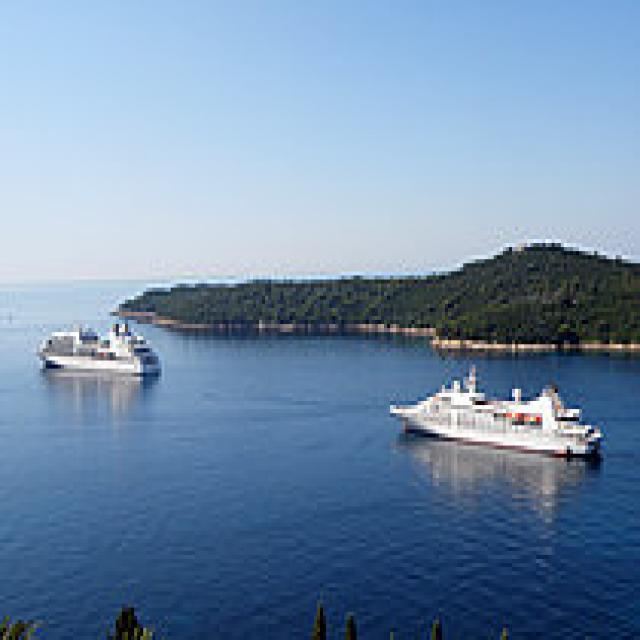Cruise: (381, 356, 603, 458), (30, 312, 158, 381)
